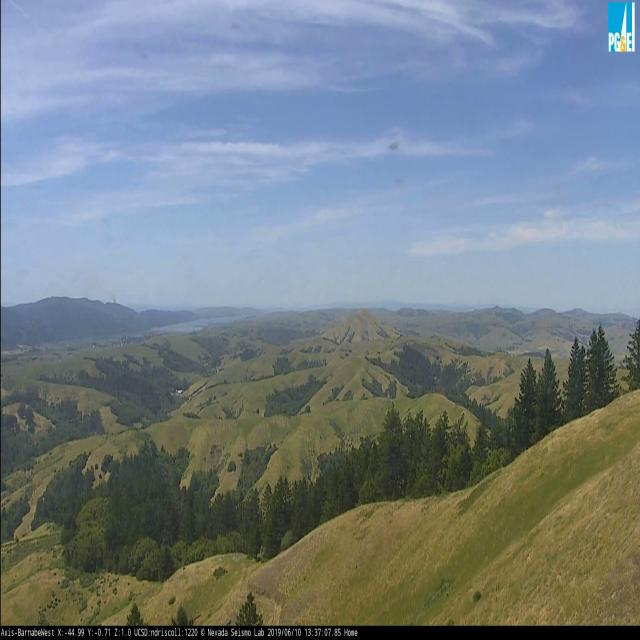smoke: (85, 269, 117, 303)
